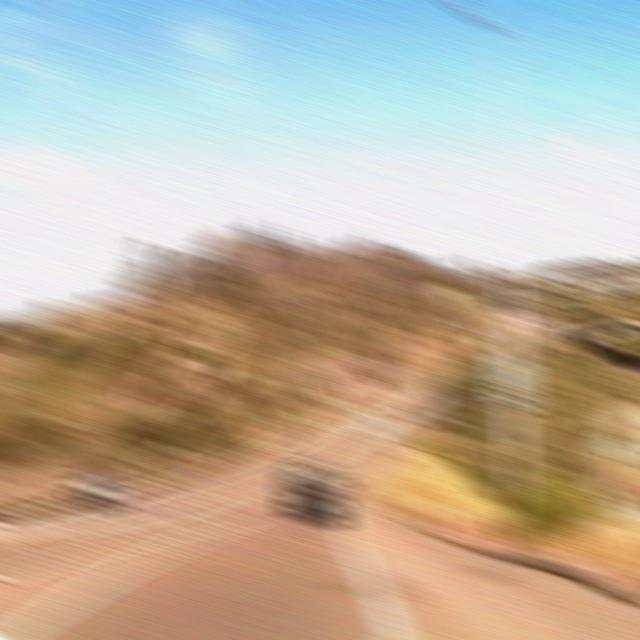speedLimit50: (490, 356, 534, 412)
